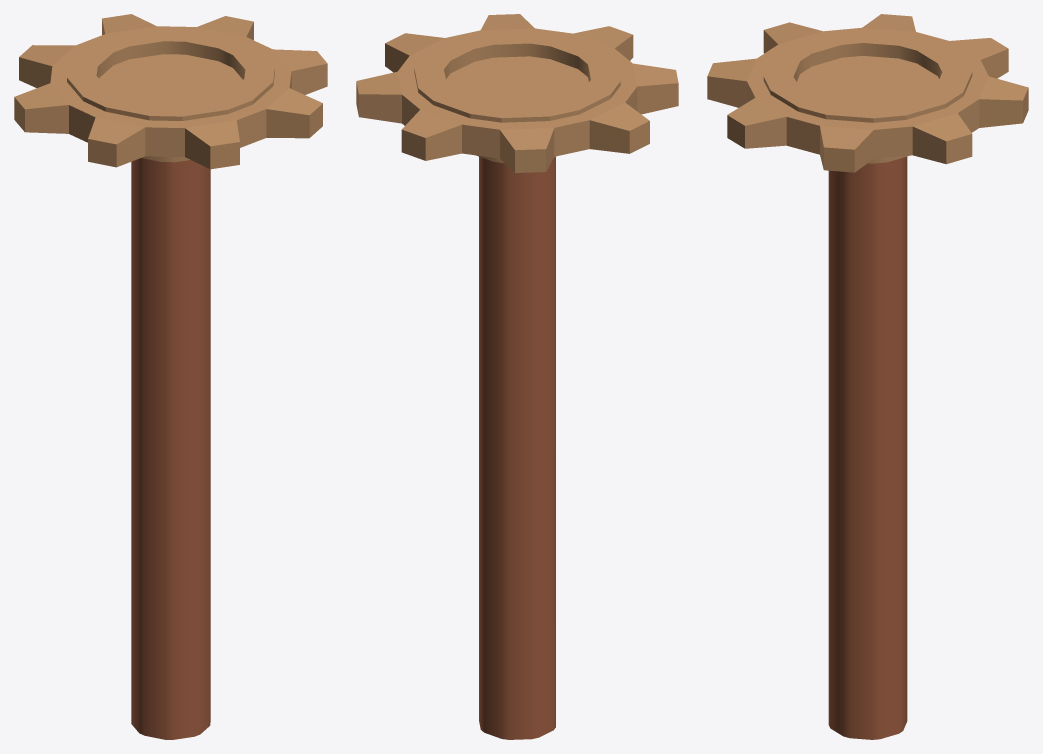
Rendered from Drill_arm.fbx.
3 renders of one model, left to right at view 1: azimuth 30°, elevation 25°; view 2: azimuth 150°, elevation 25°; view 3: azimuth 270°, elevation 25°, orthographic.
Visible parts, largest first — view 1: Drill_arm; view 2: Drill_arm; view 3: Drill_arm.
Boxes of the visible parts, x1,y1,x2,y2 form: Drill_arm: (14, 14, 327, 739); Drill_arm: (356, 14, 678, 739); Drill_arm: (707, 14, 1028, 739).
Size of the model in its own units: 132 by 294 by 132.
